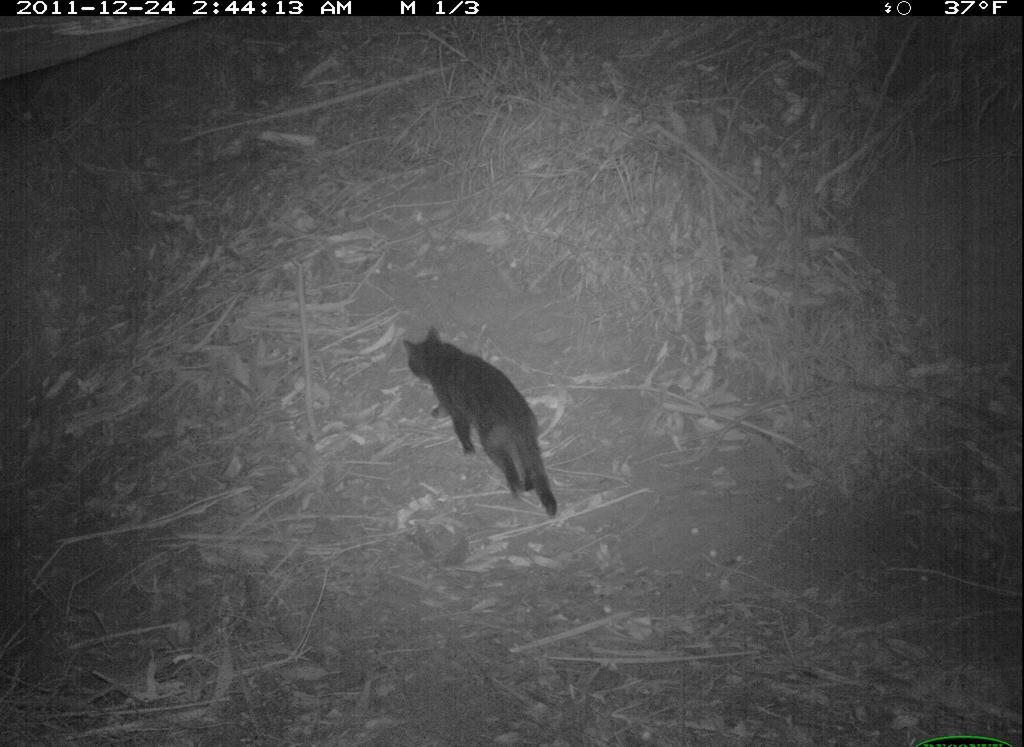cat: (400, 323, 569, 528)
